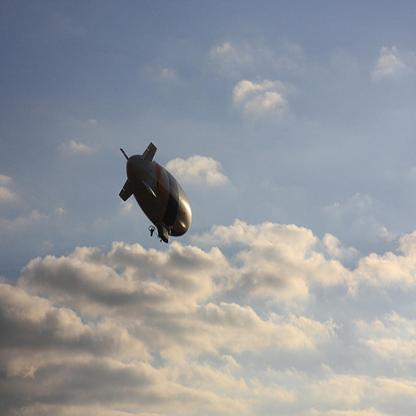Airship: (114, 140, 202, 251)
